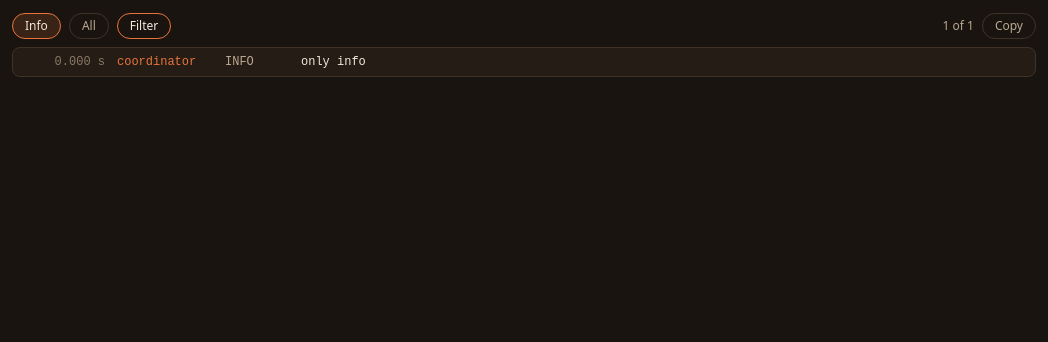
Scenario: BlockLogConsole › shows the level chips statically even when the logs lack those levels
This screenshot has width=1048, height=342.
What coordinates should you click on to do the following:
click the button "Filter"
I would click on:
 (144, 26)
Its box is [117,13,171,39].
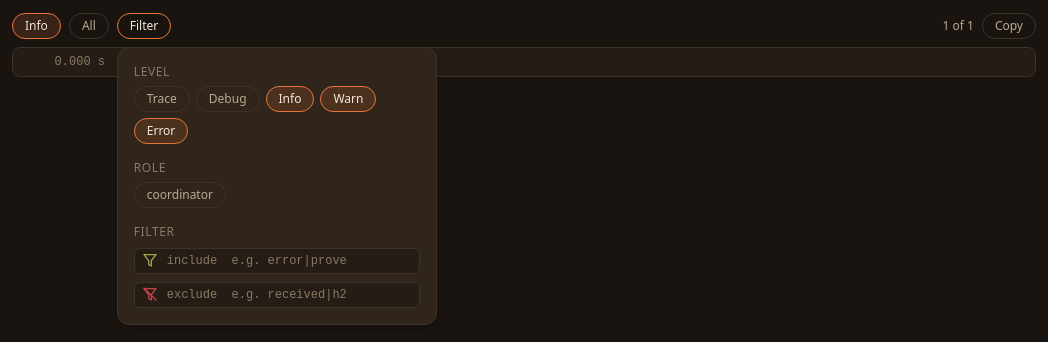
Result: the button "trace" is shown at [134,86,190,112]
Result: the button "debug" is shown at [196,86,260,112]
Result: the button "warn" is shown at [320,86,376,112]
